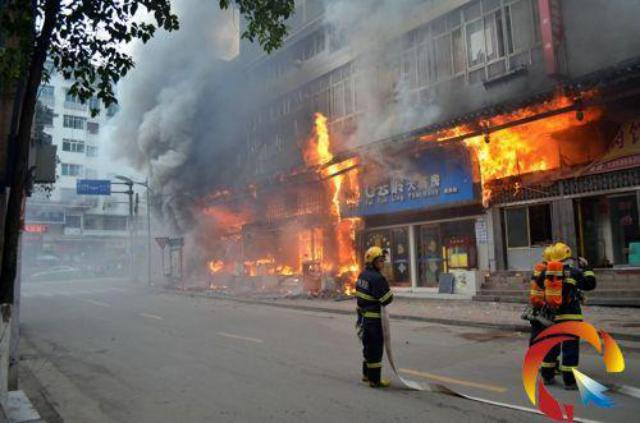fire: (468, 131, 558, 173), (516, 112, 578, 131), (308, 105, 329, 160), (332, 214, 353, 260), (294, 226, 310, 258), (312, 225, 324, 260), (320, 160, 354, 172), (329, 173, 341, 198), (344, 175, 356, 199), (438, 126, 462, 137), (206, 258, 222, 273), (244, 254, 274, 262), (336, 261, 356, 273), (480, 183, 492, 202), (272, 262, 292, 273), (548, 94, 568, 105), (484, 114, 504, 122), (506, 109, 526, 117), (329, 199, 337, 218), (244, 262, 256, 272)
